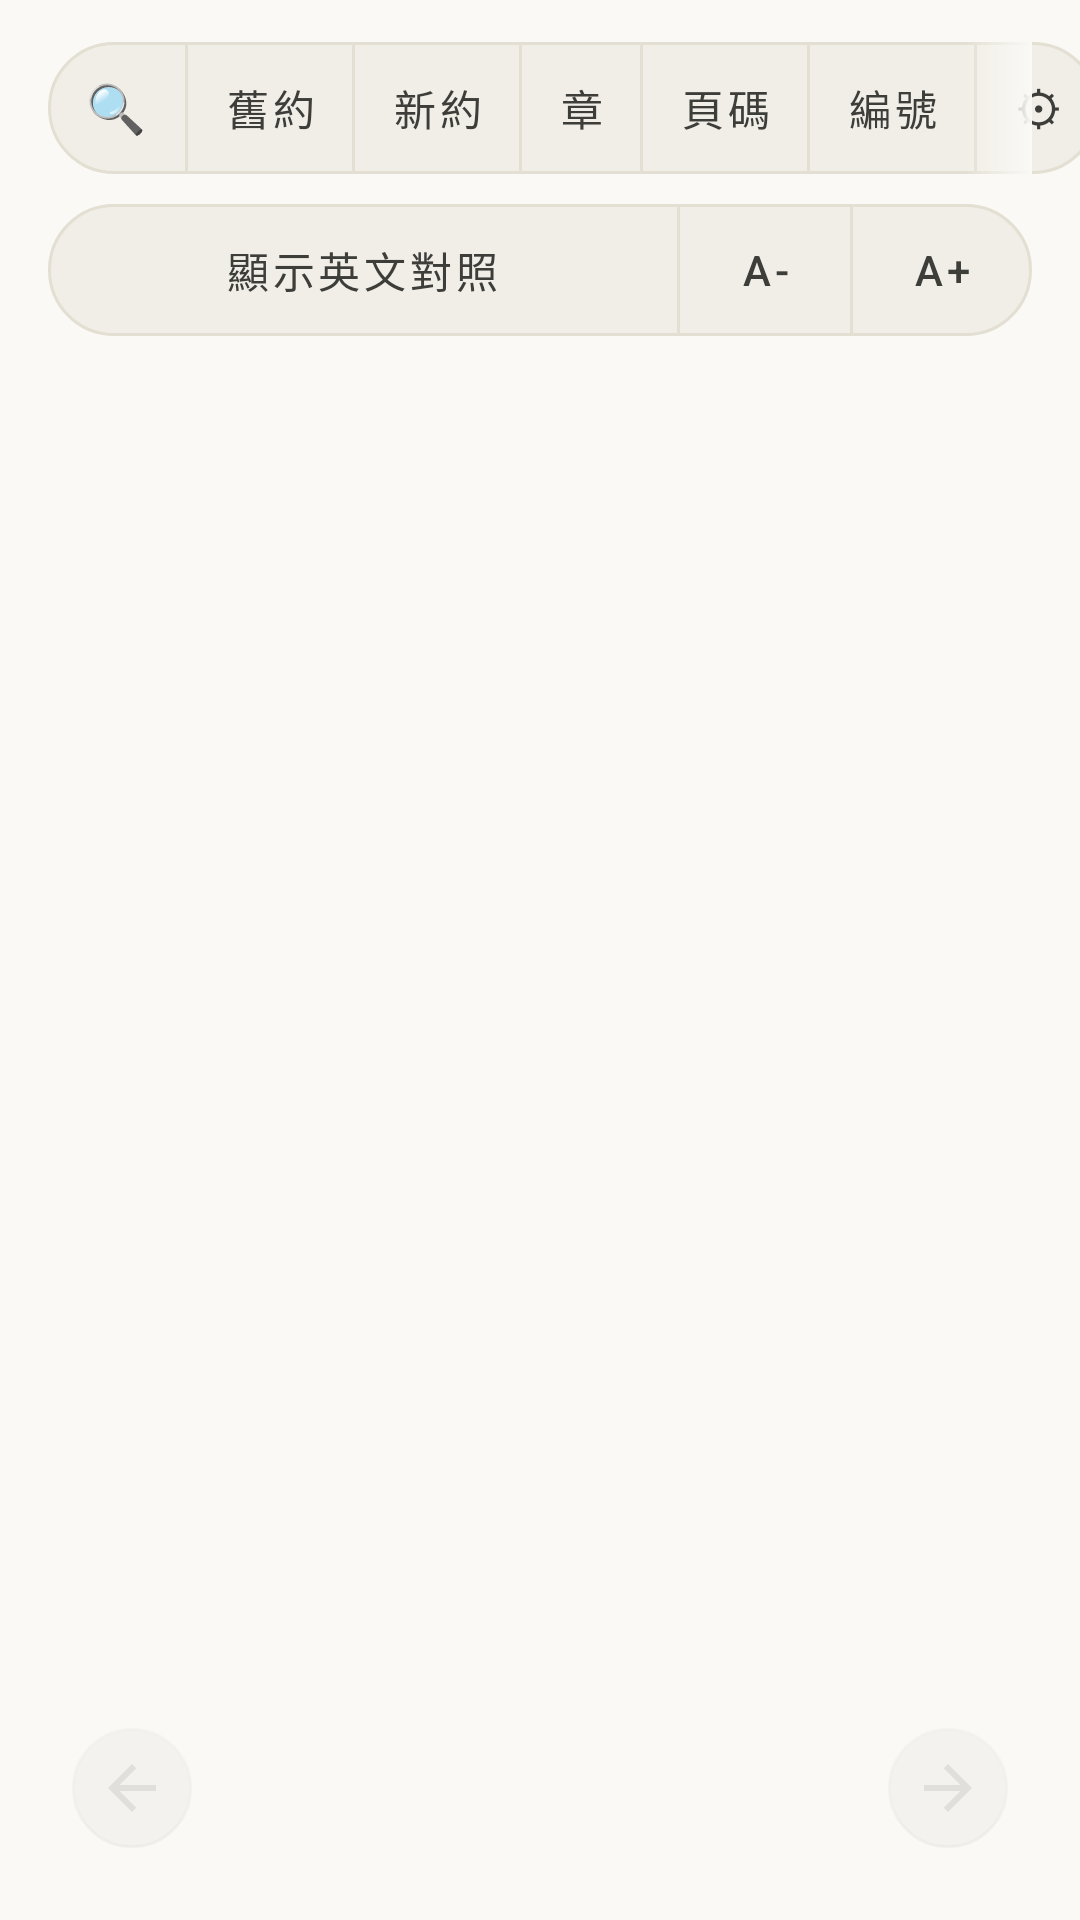

Point at icon controls on the screen. Image size 1080×1920, points as [x,y].
上一章: [132,1788]
下一章: [947,1788]
